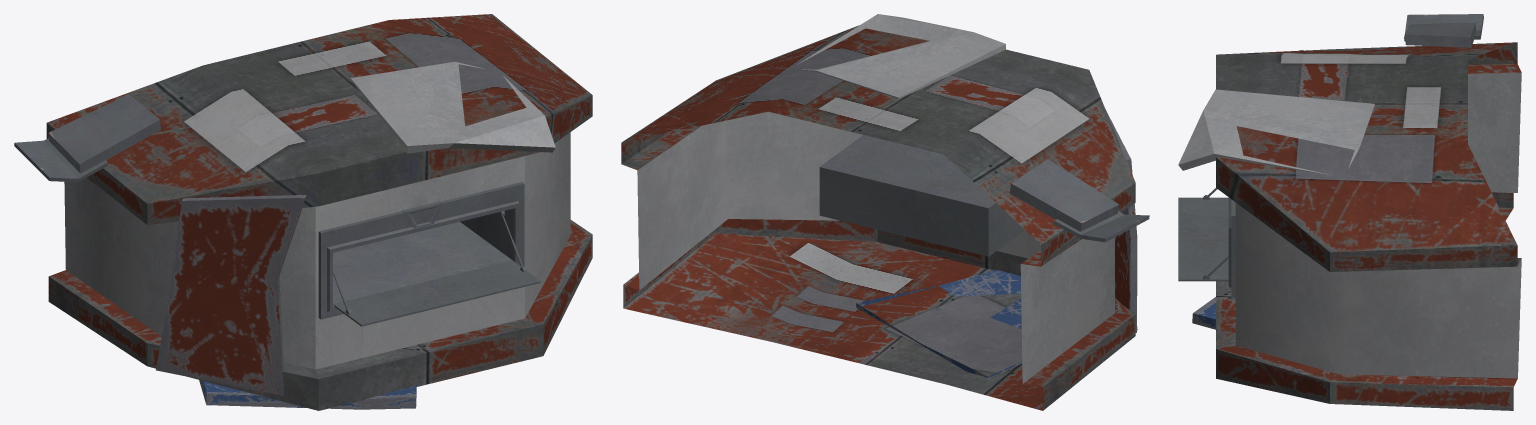
File: HCP6.fbx
The picture shows the model from 3 angles, left to right: view 1: azimuth 30°, elevation 25°; view 2: azimuth 150°, elevation 25°; view 3: azimuth 270°, elevation 25°; orthographic projection. The views are drawn at different scales.
Parts seen in each view (by area): view 1: sixD; view 2: sixD; view 3: sixD.
Part boxes in pixels (x1,y1,x2,y2): sixD: (14,14,592,410); sixD: (621,14,1149,410); sixD: (1178,14,1521,410).
Bounding box in the file's own units: 6699 × 3273 × 4257.
1 material, 1 textured.
